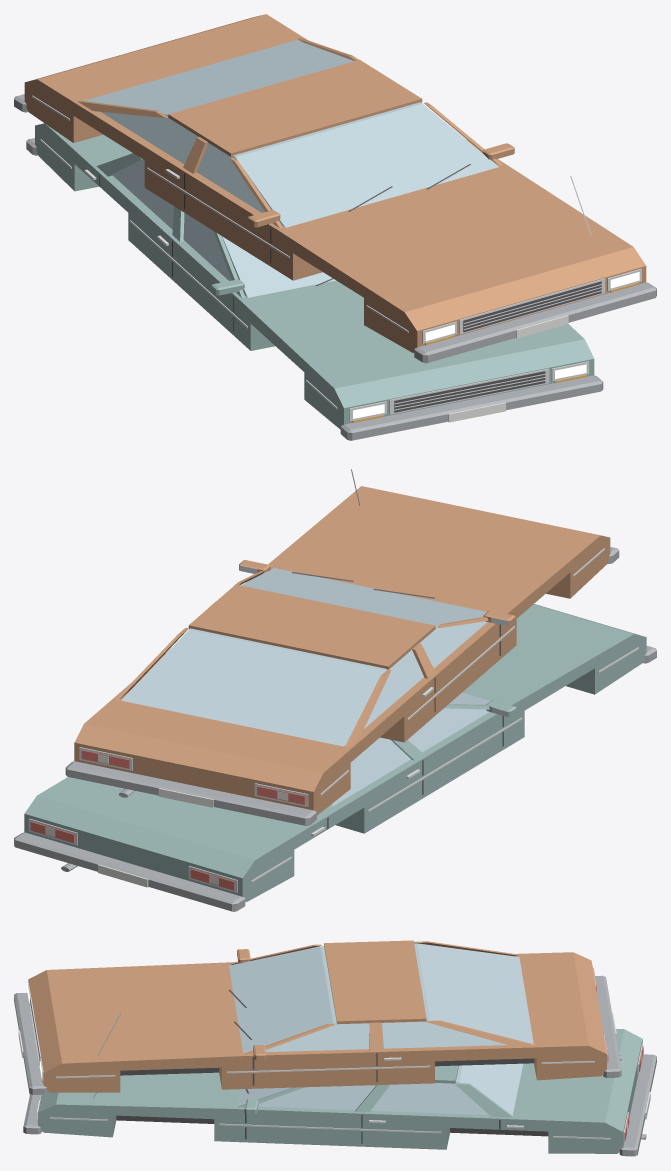
File: car_stack_2.glb
3 views of the same model, one above another, from view 1: azimuth 30°, elevation 25°; view 2: azimuth 150°, elevation 25°; view 3: azimuth 270°, elevation 25° (orthographic). The views are drawn at different scales.
Visible parts, largest first — view 1: car_stack_2_car_o, car_stack_2_glass, car_stack_2_car_t, car_stack_2_steel, car_stack_2_chrome, car_stack_2_dark, car_stack_2_lamp_glass, car_stack_2_paint_w; view 2: car_stack_2_car_o, car_stack_2_car_t, car_stack_2_glass, car_stack_2_steel, car_stack_2_chrome, car_stack_2_neon_r, car_stack_2_paint_w; view 3: car_stack_2_car_o, car_stack_2_car_t, car_stack_2_glass, car_stack_2_steel, car_stack_2_chrome, car_stack_2_rubber, car_stack_2_dark.
Part boxes in pixels (bbox=[...]): car_stack_2_car_o: bbox=[24, 14, 646, 352]; car_stack_2_glass: bbox=[84, 40, 498, 297]; car_stack_2_car_t: bbox=[35, 123, 594, 429]; car_stack_2_steel: bbox=[14, 94, 656, 440]; car_stack_2_chrome: bbox=[32, 95, 641, 420]; car_stack_2_dark: bbox=[99, 164, 601, 412]; car_stack_2_lamp_glass: bbox=[353, 272, 639, 418]; car_stack_2_paint_w: bbox=[448, 315, 568, 422]; car_stack_2_car_o: bbox=[74, 486, 610, 815]; car_stack_2_car_t: bbox=[24, 604, 646, 901]; car_stack_2_glass: bbox=[121, 568, 490, 806]; car_stack_2_steel: bbox=[14, 547, 656, 911]; car_stack_2_chrome: bbox=[28, 469, 638, 892]; car_stack_2_neon_r: bbox=[30, 750, 304, 890]; car_stack_2_paint_w: bbox=[45, 754, 288, 887]; car_stack_2_car_o: bbox=[28, 940, 606, 1092]; car_stack_2_car_t: bbox=[38, 1029, 642, 1153]; car_stack_2_glass: bbox=[229, 943, 533, 1115]; car_stack_2_steel: bbox=[14, 975, 656, 1156]; car_stack_2_chrome: bbox=[28, 965, 642, 1143]; car_stack_2_rubber: bbox=[116, 1058, 548, 1136]; car_stack_2_dark: bbox=[30, 989, 500, 1143].
Bounding box in the file's own units: 2.31 × 1.25 × 5.3.
